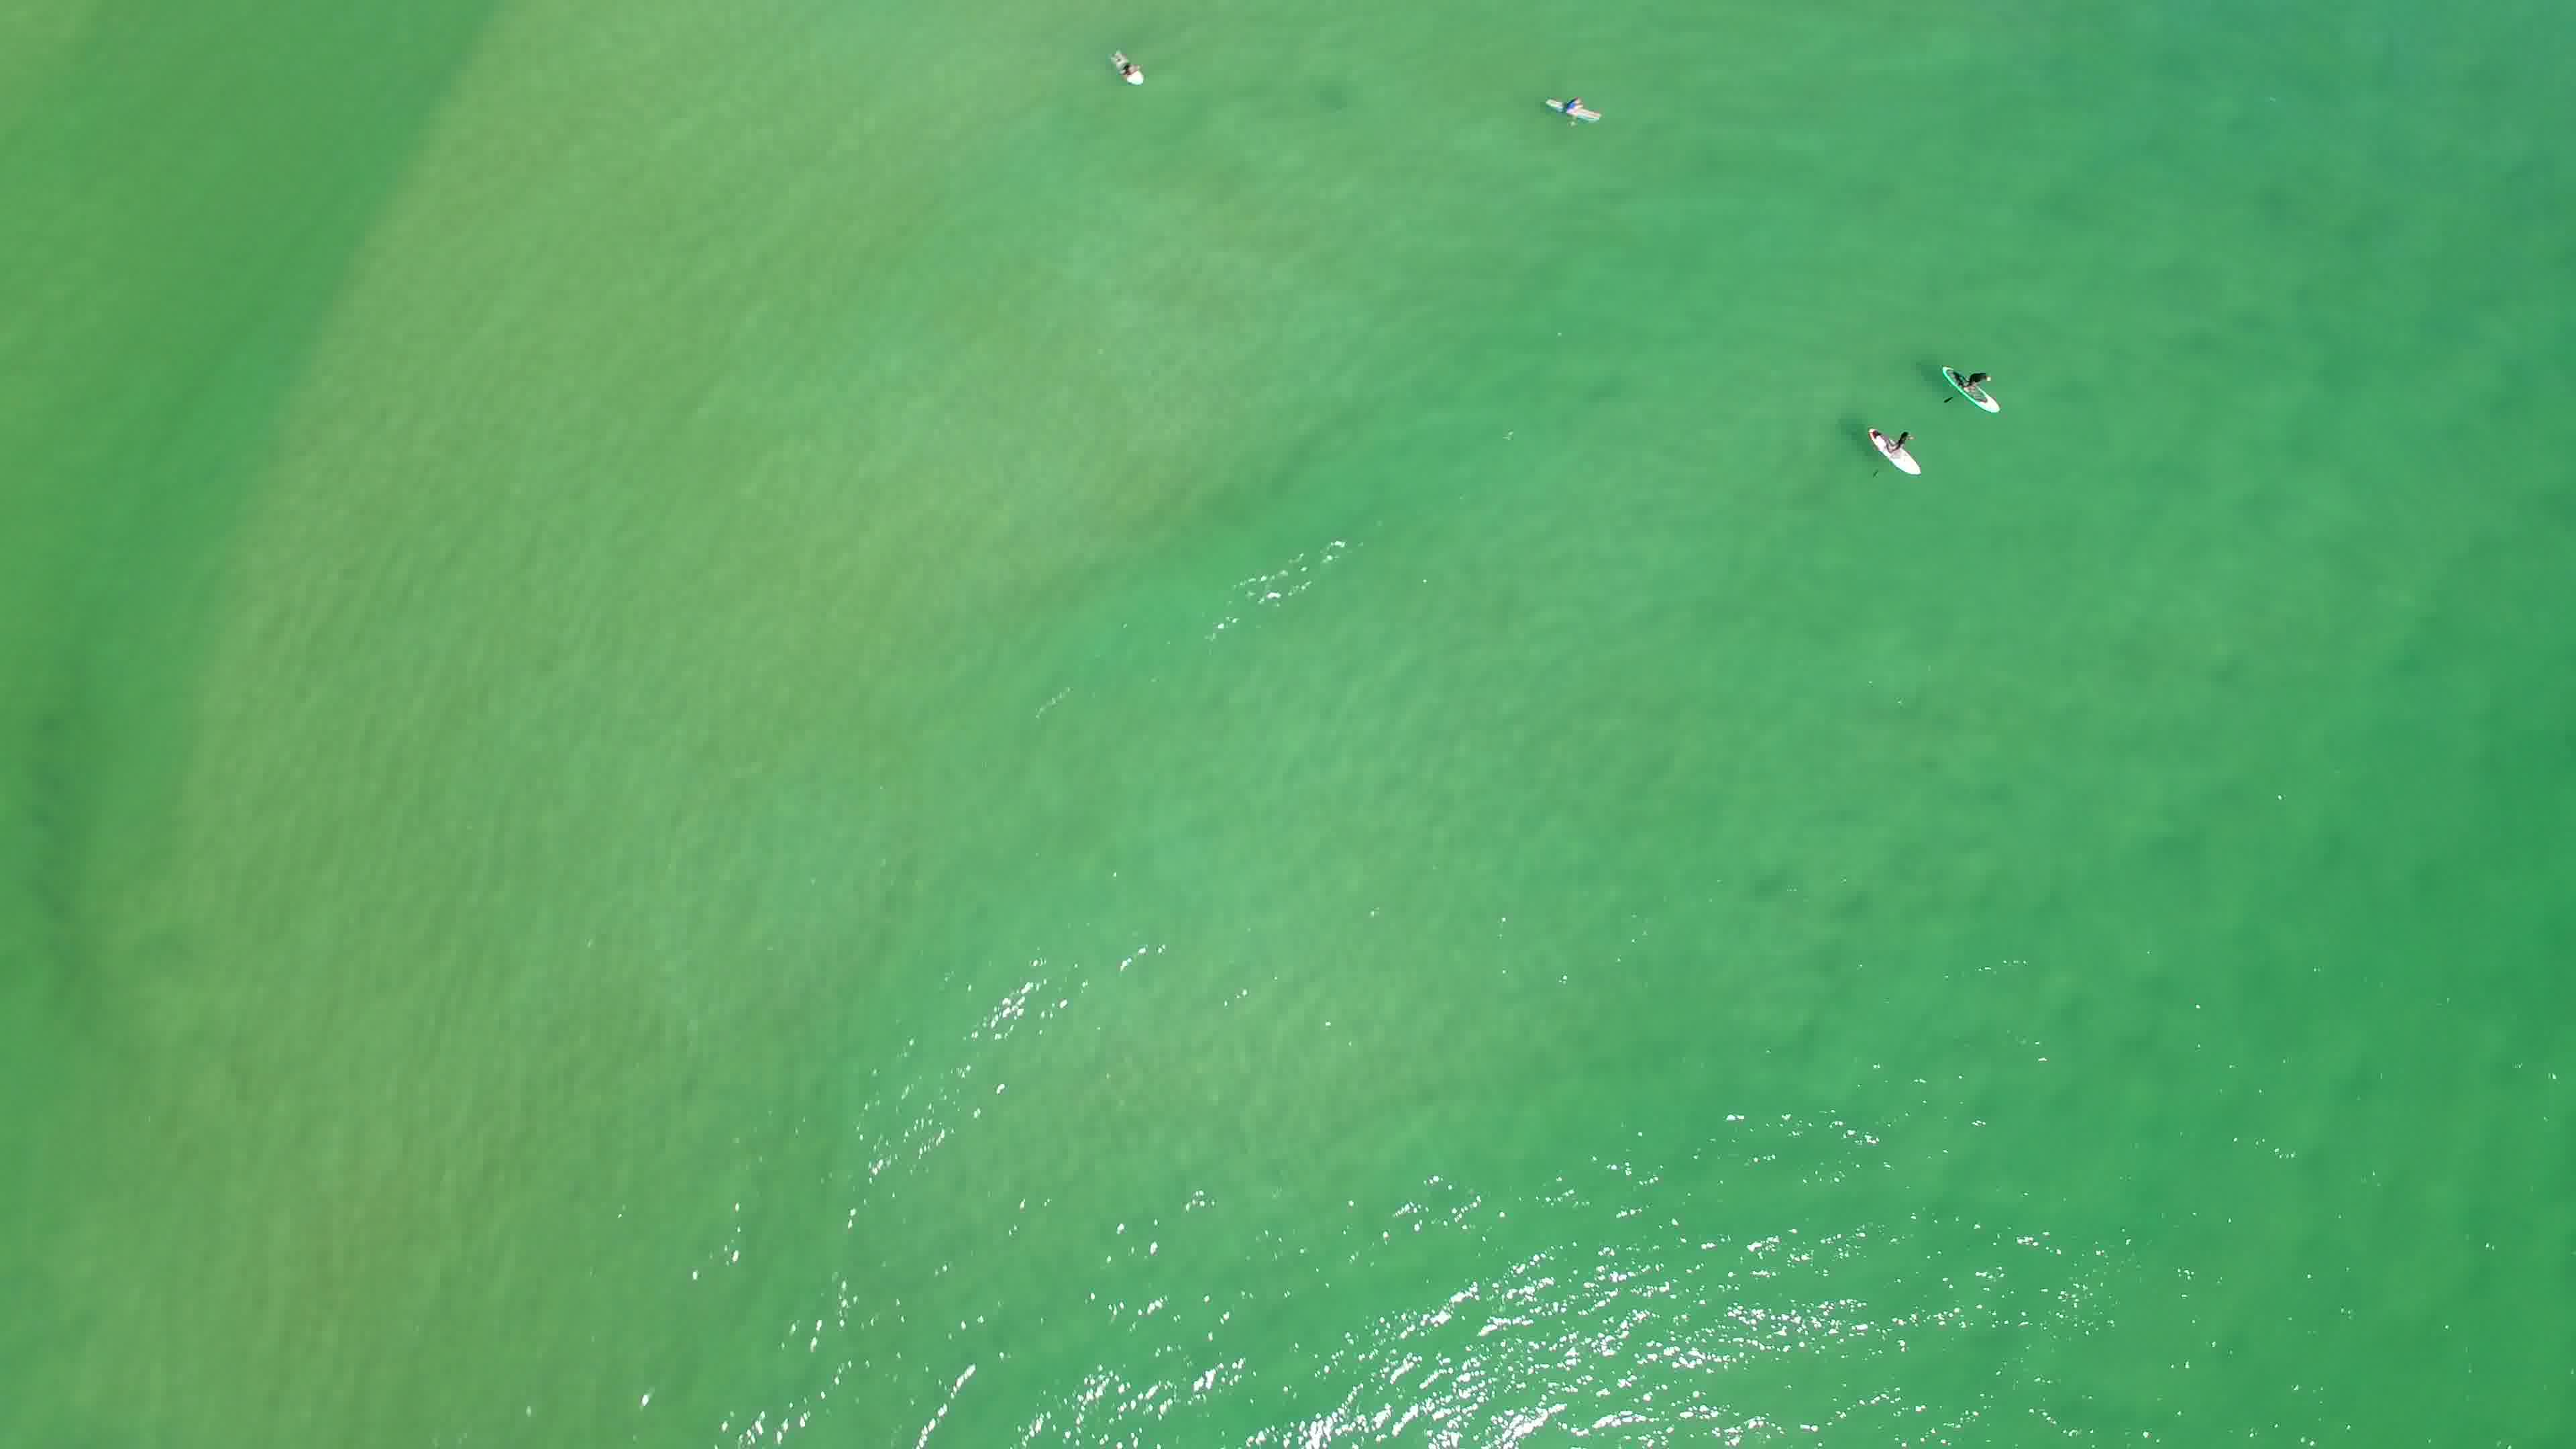surfer: (1936, 359, 2015, 419), (1858, 419, 1932, 483), (1534, 88, 1612, 131), (1100, 46, 1157, 92)
